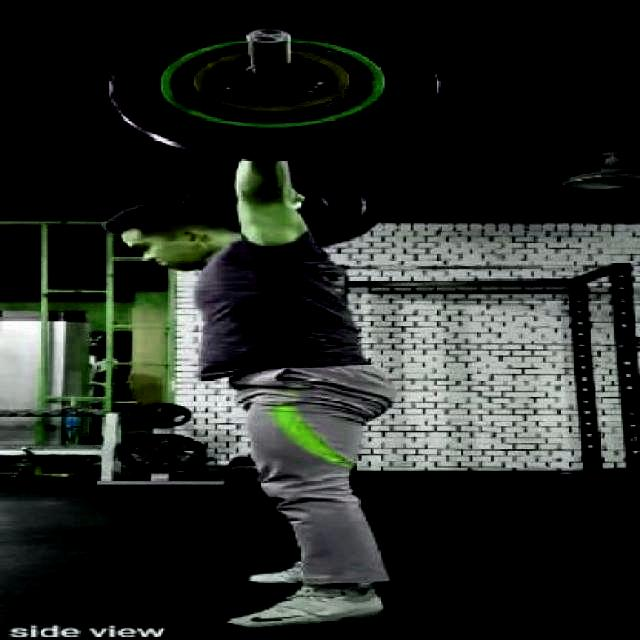barbell: (86, 10, 465, 168)
